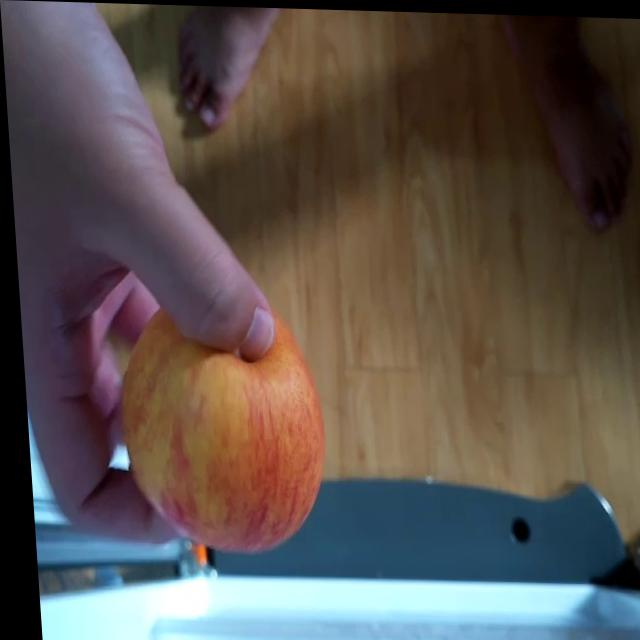apple: (105, 299, 319, 548)
